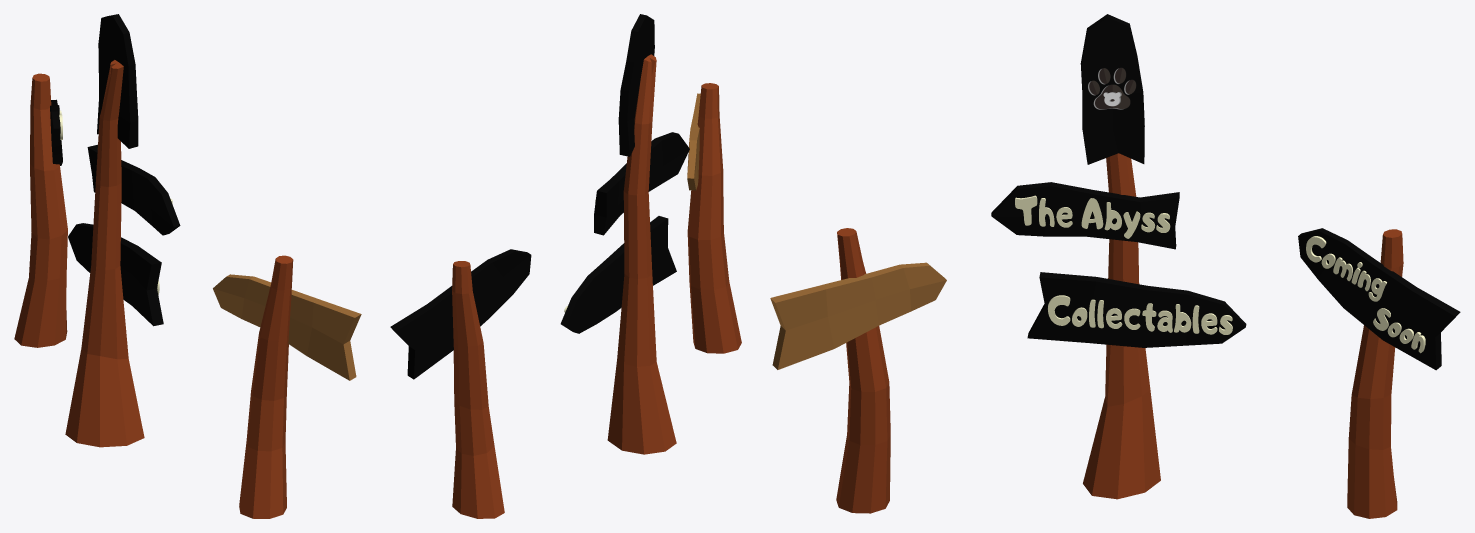
Rendered from signs.gltf.
The picture shows the model from 3 angles, left to right: view 1: azimuth 30°, elevation 25°; view 2: azimuth 150°, elevation 25°; view 3: azimuth 270°, elevation 25°; orthographic projection. The views are drawn at different scales.
Parts seen in each view (by area): view 1: post2, post1, post3, sign1, sign4, sign2, sign3, sign5; view 2: post2, post1, post3, sign5, sign4, sign3, sign2, sign1; view 3: post2, sign1, sign4, post1, post3, sign5, sign2, sign3, text 3, text 2, text 4, Very Top (+1 smaller).
Part boxes in pixels (<box>): post2: <box>65,60,144,447</box>; post1: <box>239,255,293,518</box>; post3: <box>14,73,67,347</box>; sign1: <box>213,274,361,380</box>; sign4: <box>68,223,163,326</box>; sign2: <box>97,14,138,148</box>; sign3: <box>87,144,180,235</box>; sign5: <box>50,99,62,165</box>; post2: <box>607,54,676,454</box>; post1: <box>687,83,741,353</box>; post3: <box>452,261,504,518</box>; sign5: <box>390,249,531,379</box>; sign4: <box>560,216,676,333</box>; sign3: <box>594,132,689,235</box>; sign2: <box>618,14,654,156</box>; sign1: <box>687,93,700,190</box>; post2: <box>1083,153,1160,499</box>; sign1: <box>770,262,946,369</box>; sign4: <box>1027,272,1246,347</box>; post1: <box>836,228,890,513</box>; post3: <box>1347,229,1403,518</box>; sign5: <box>1298,228,1460,370</box>; sign2: <box>1080,14,1144,164</box>; sign3: <box>991,182,1179,249</box>; text 3: <box>1048,295,1232,334</box>; text 2: <box>1015,195,1170,238</box>; text 4: <box>1306,236,1386,301</box>; Very Top: <box>1088,67,1136,109</box>.
Size of the model in its own units: 0.675 by 2.03 by 2.71.
Materials: 8 (1 with a texture image).
